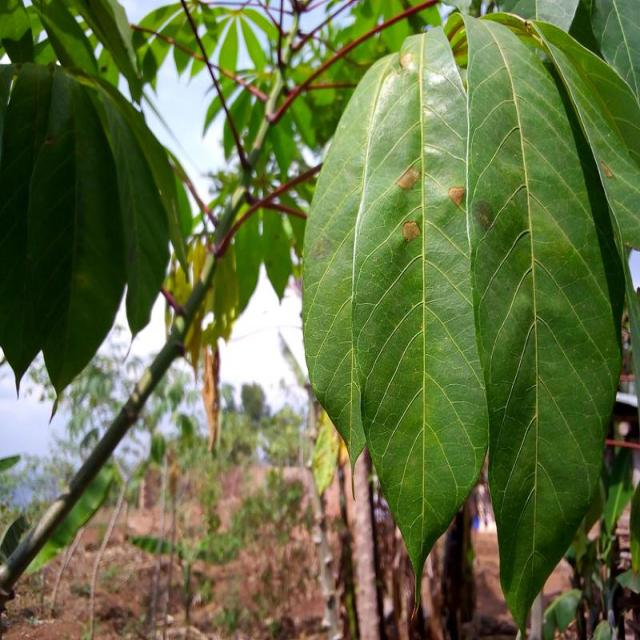cassava leaf: (300, 23, 490, 618), (461, 10, 628, 636)
